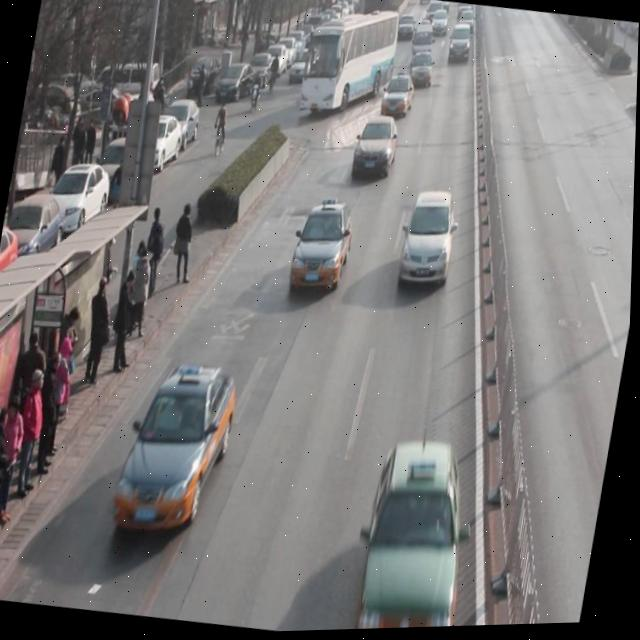car: (355, 436, 486, 631), (113, 354, 246, 545), (290, 198, 360, 300), (396, 190, 462, 297), (351, 116, 403, 185), (380, 74, 420, 123), (447, 25, 475, 69), (407, 53, 437, 93)
truck: (409, 24, 438, 73)
van: (298, 2, 403, 120)
